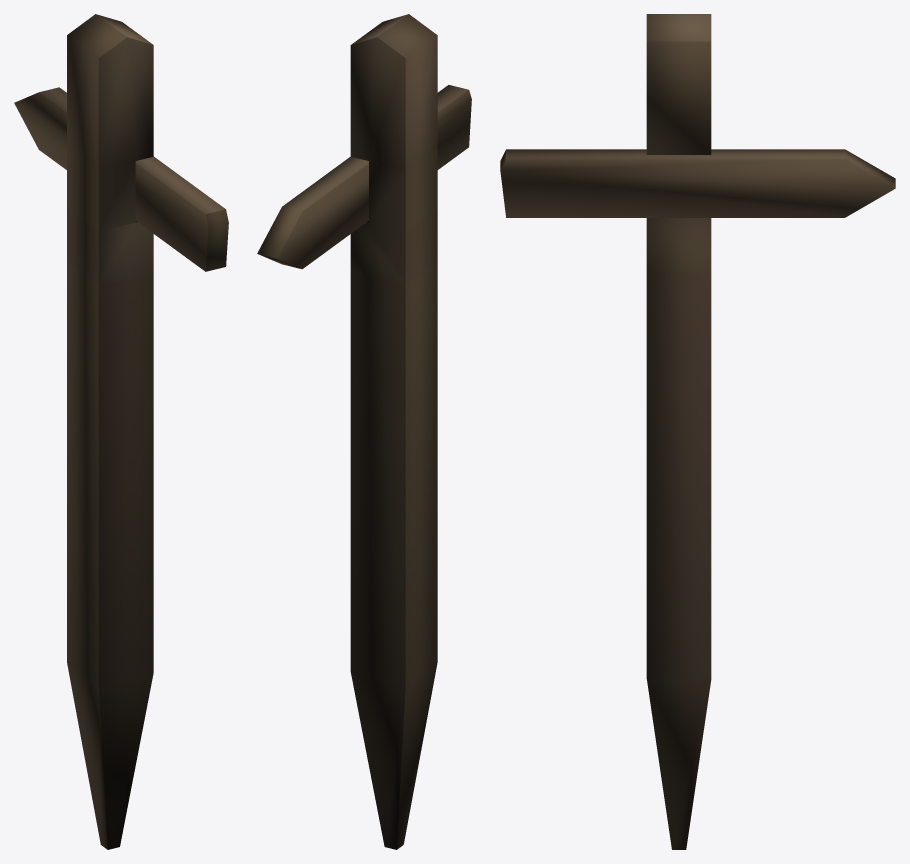
File: furnishings-signs-woodensignpost_v2.glb
The picture shows the model from 3 angles, left to right: view 1: azimuth 30°, elevation 25°; view 2: azimuth 150°, elevation 25°; view 3: azimuth 270°, elevation 25°; orthographic projection.
Parts seen in each view (by area): view 1: WoodenSignPost_v2; view 2: WoodenSignPost_v2; view 3: WoodenSignPost_v2.
Part boxes in pixels (left/top/right/bottom): WoodenSignPost_v2: left=14, top=14, right=228, bottom=849; WoodenSignPost_v2: left=257, top=14, right=471, bottom=849; WoodenSignPost_v2: left=500, top=14, right=895, bottom=849.
Size of the model in its own units: 0.2399 by 3.23 by 1.39.
